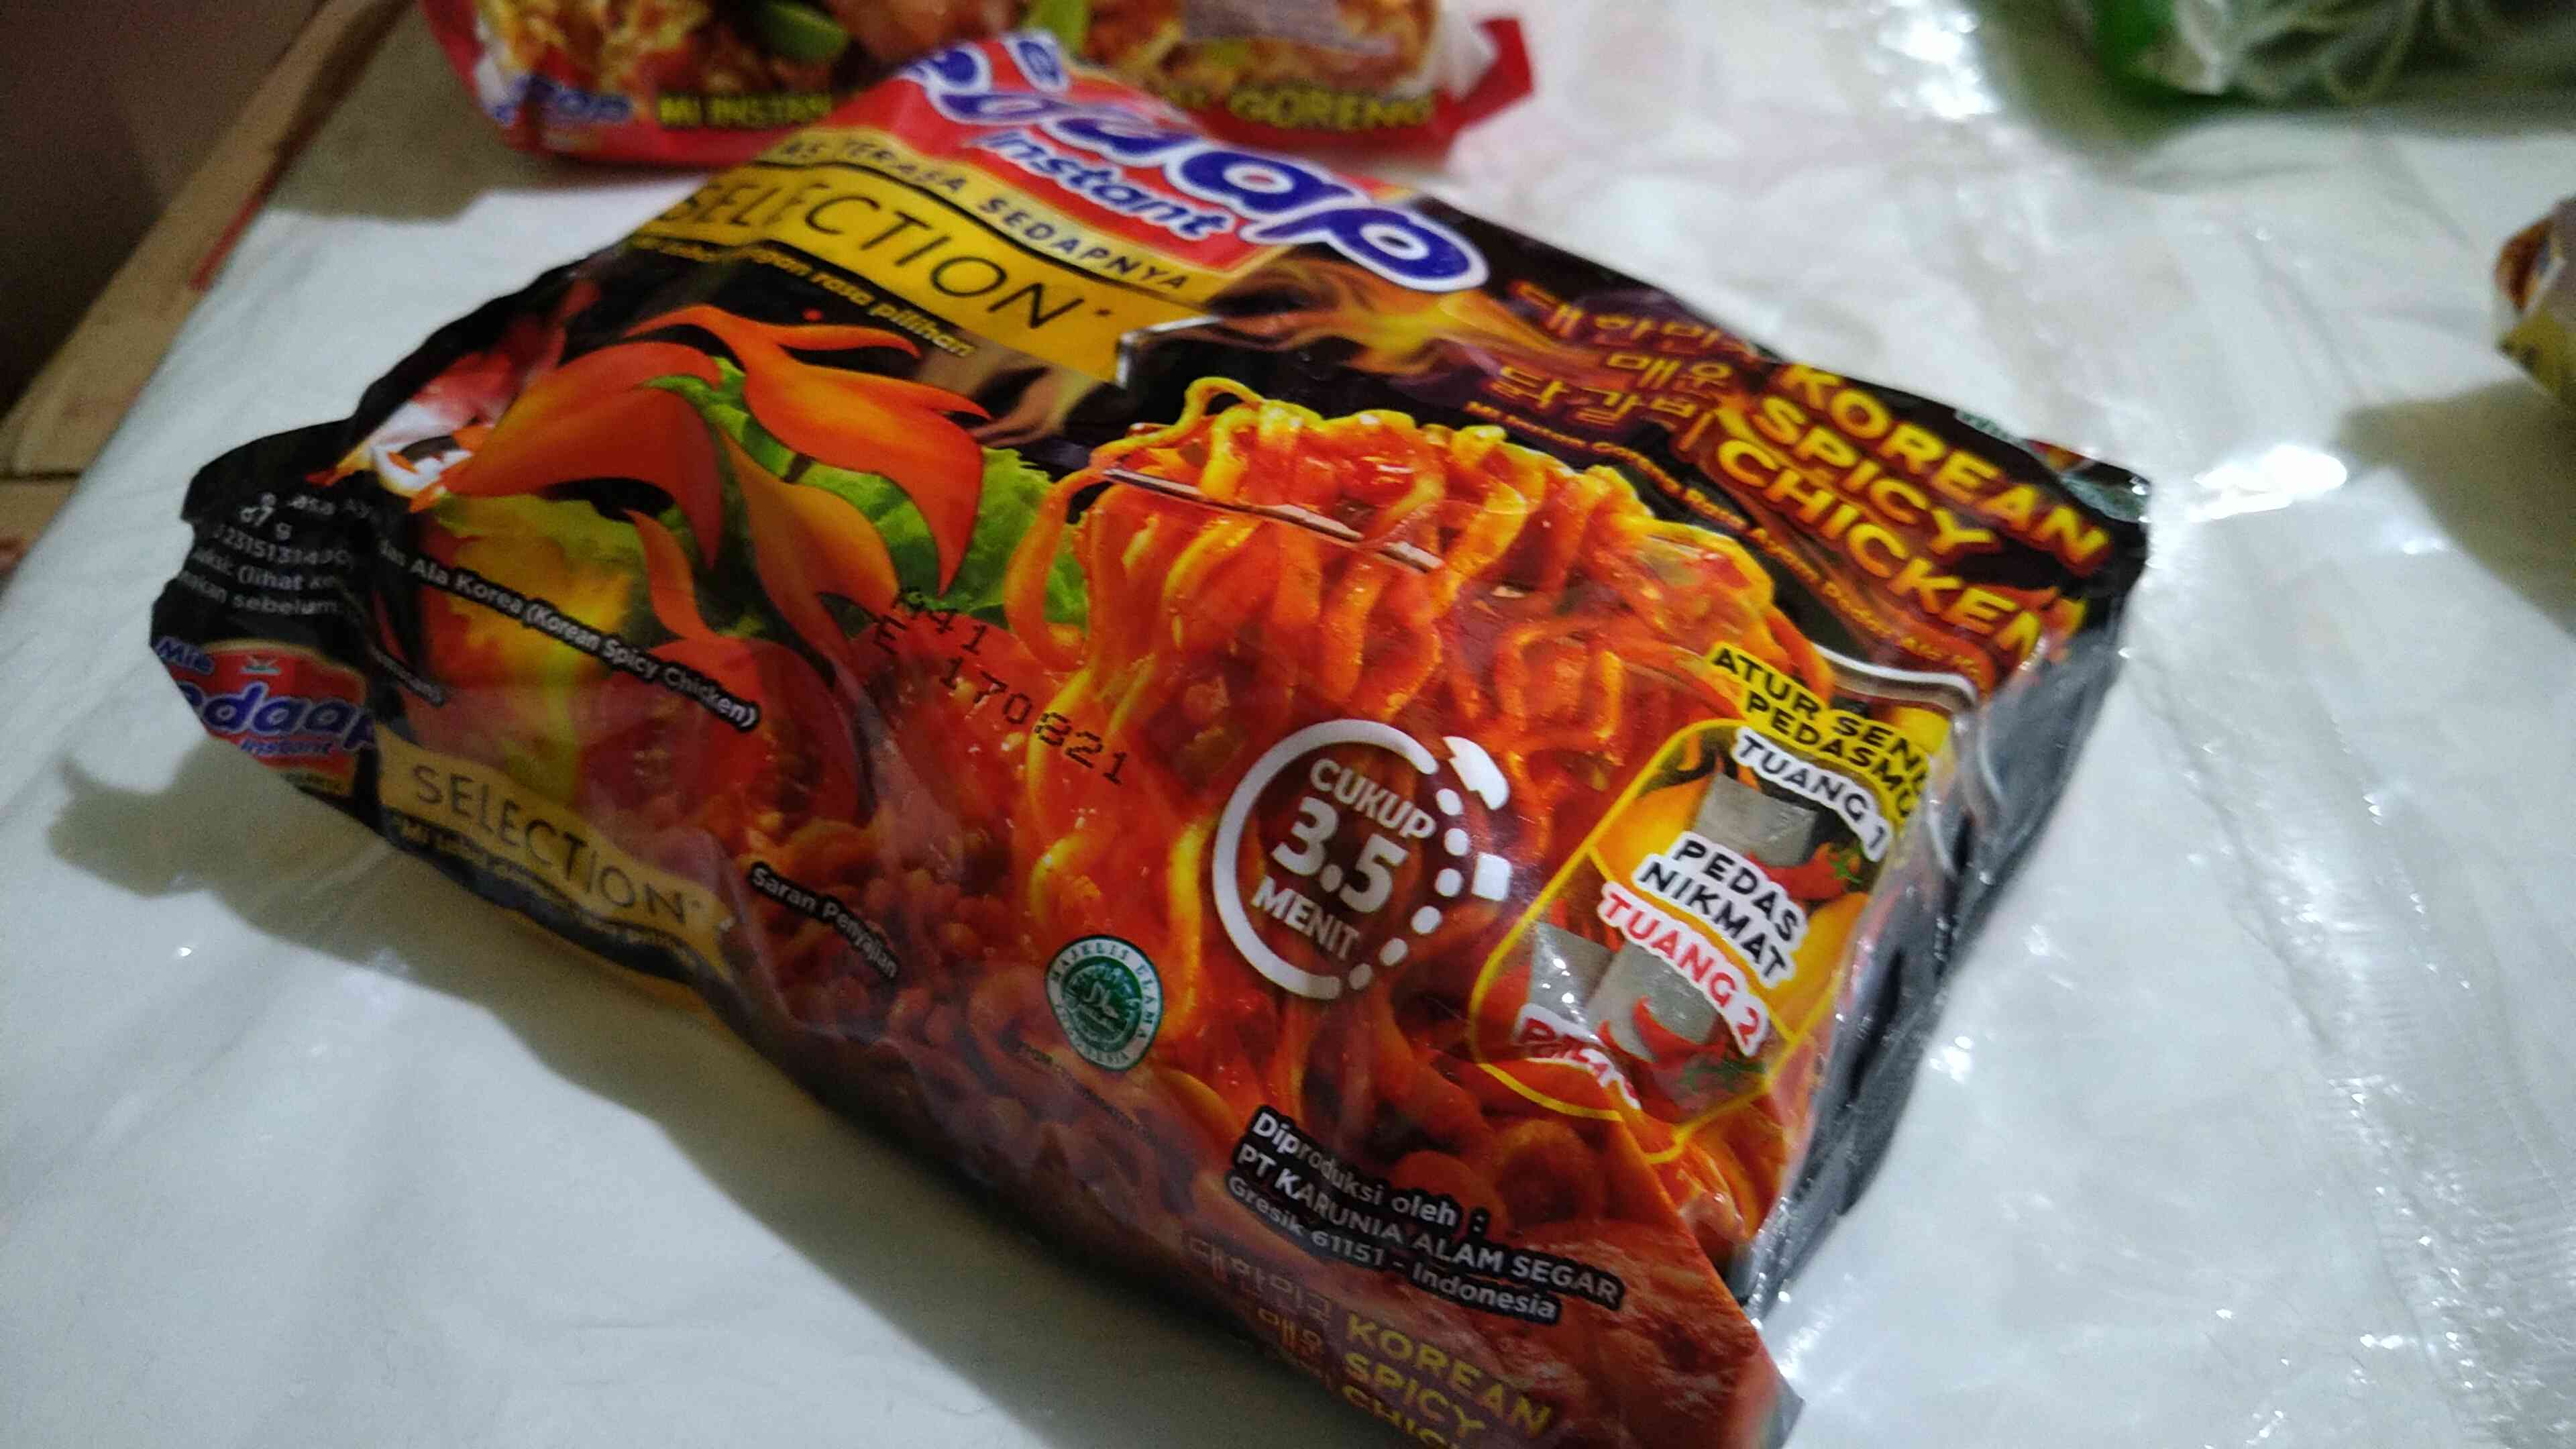sedaap spicy: (186, 67, 2279, 1449)
